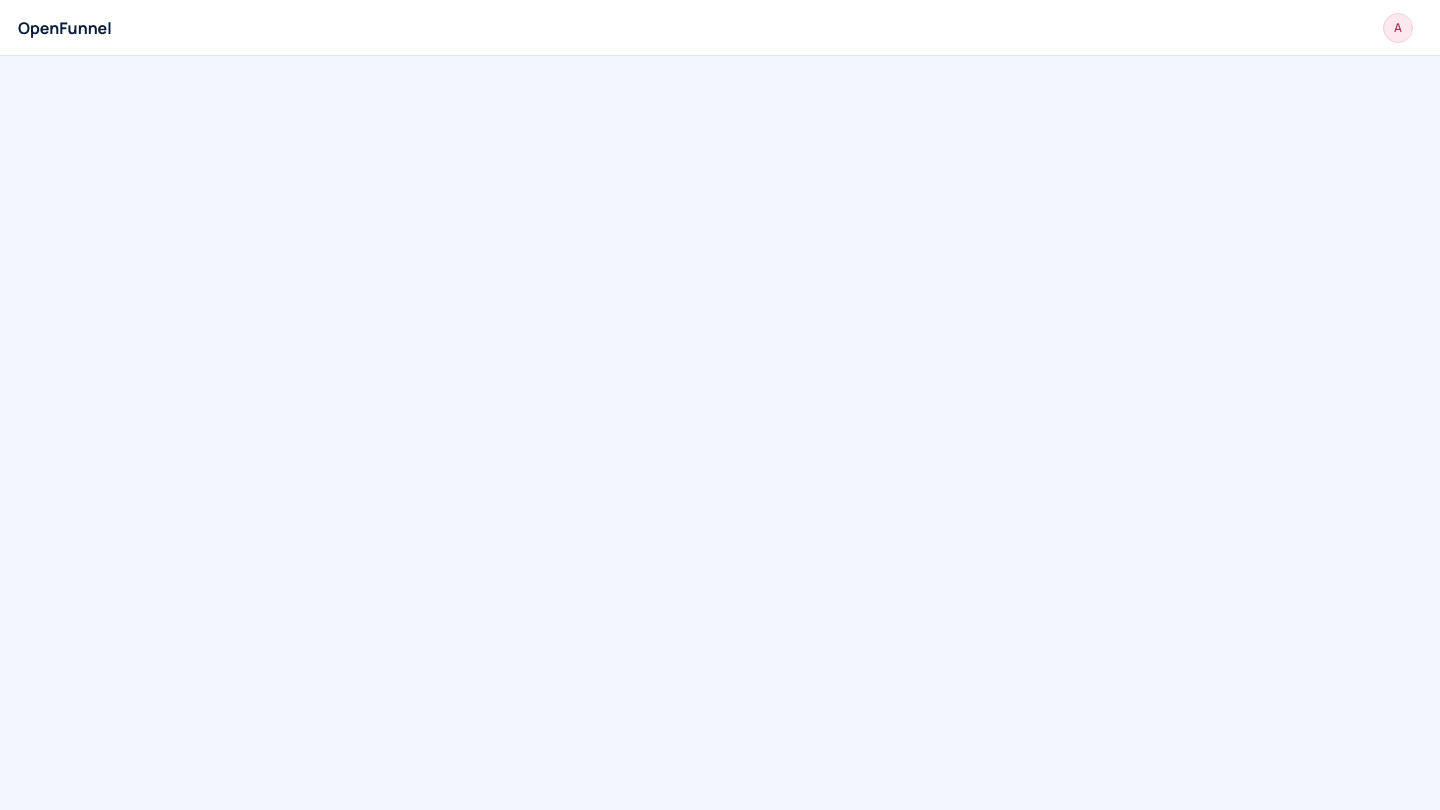
TopBar account menu › closes the account menu on an outside click
Click the button named "Account menu" at (1398, 28), box [1374, 8, 1422, 48]
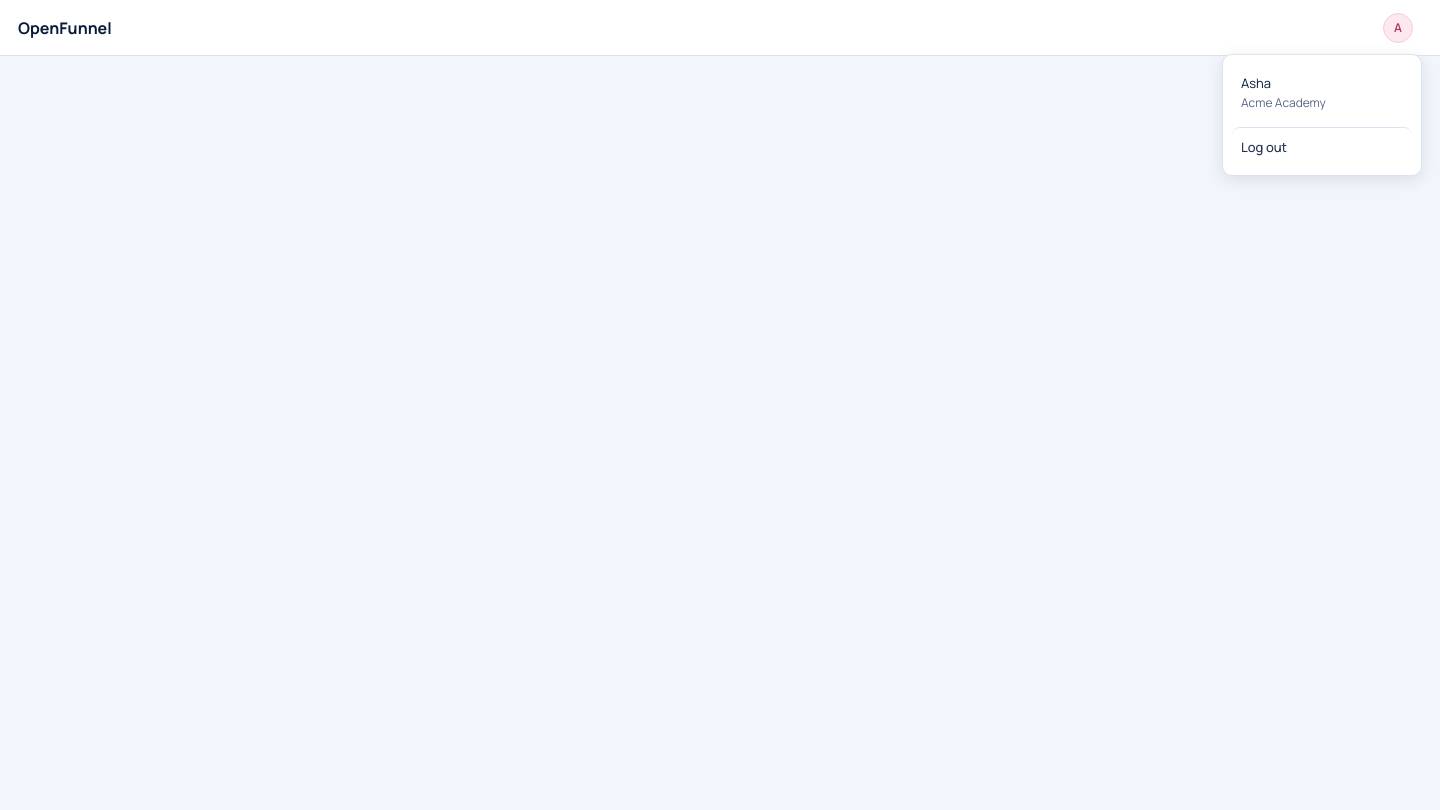
Expected: the menu item "Log out" is shown, [1232, 126, 1412, 166]
Press the mouse on the element showing "OpenFunnel A Asha Acme Academy Log out" at (720, 405), box [0, 0, 1439, 809]
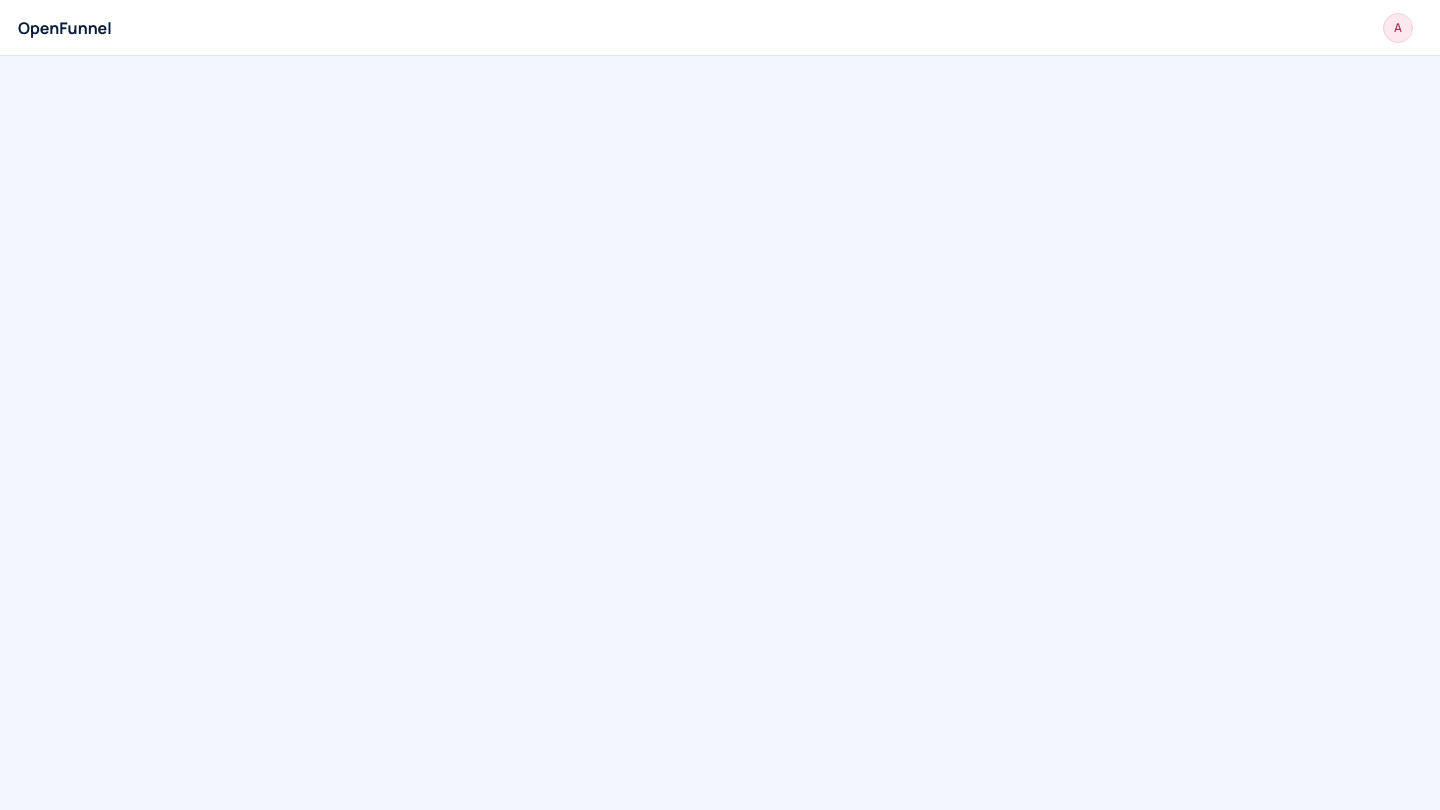
Expected: the menu item "Log out" is gone
